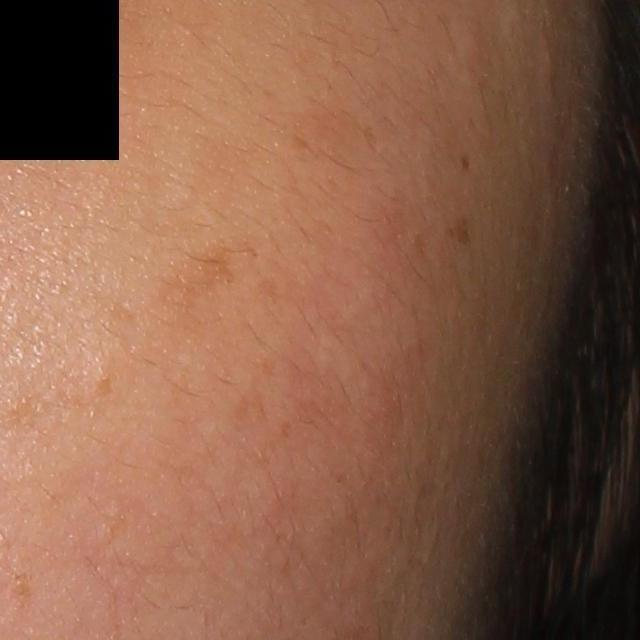melasma: (149, 233, 256, 341), (440, 211, 473, 248)
